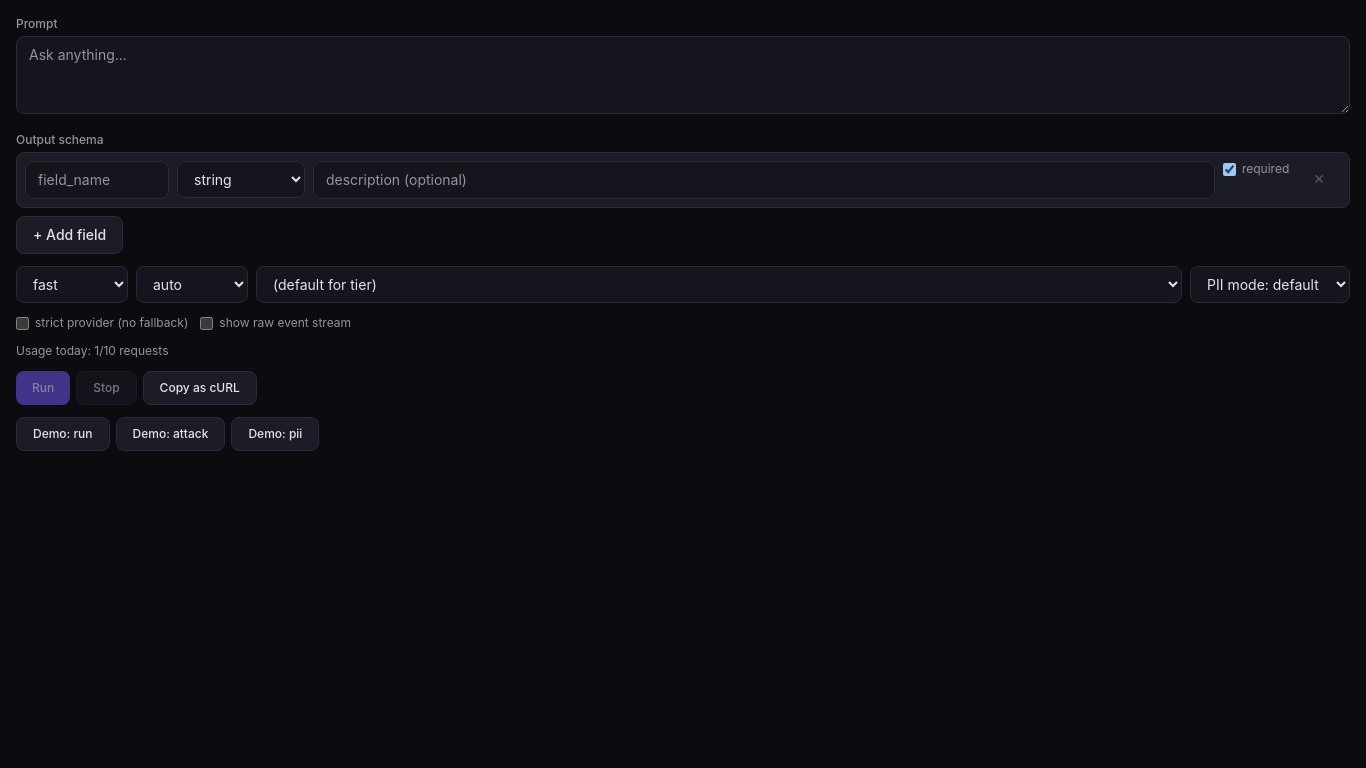
Test: LiveRunPanel error handling › maps a 401 to a session-expired message
The width and height of the screenshot is (1366, 768).
Type "hi" into the text box with placeholder "Ask anything..." at (683, 75), box [16,36,1350,114]
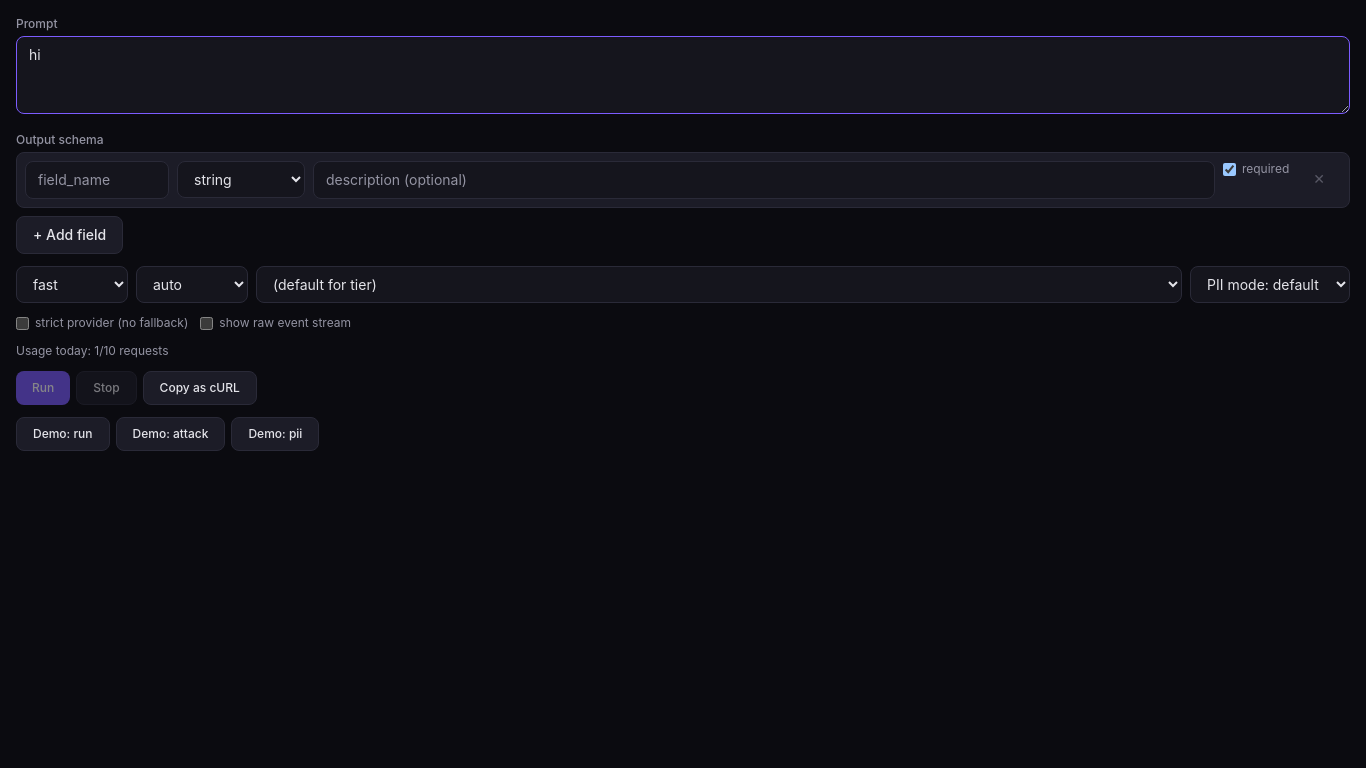
Type "answer" into the field with placeholder "field_name" at (97, 180), box [25,161,169,199]
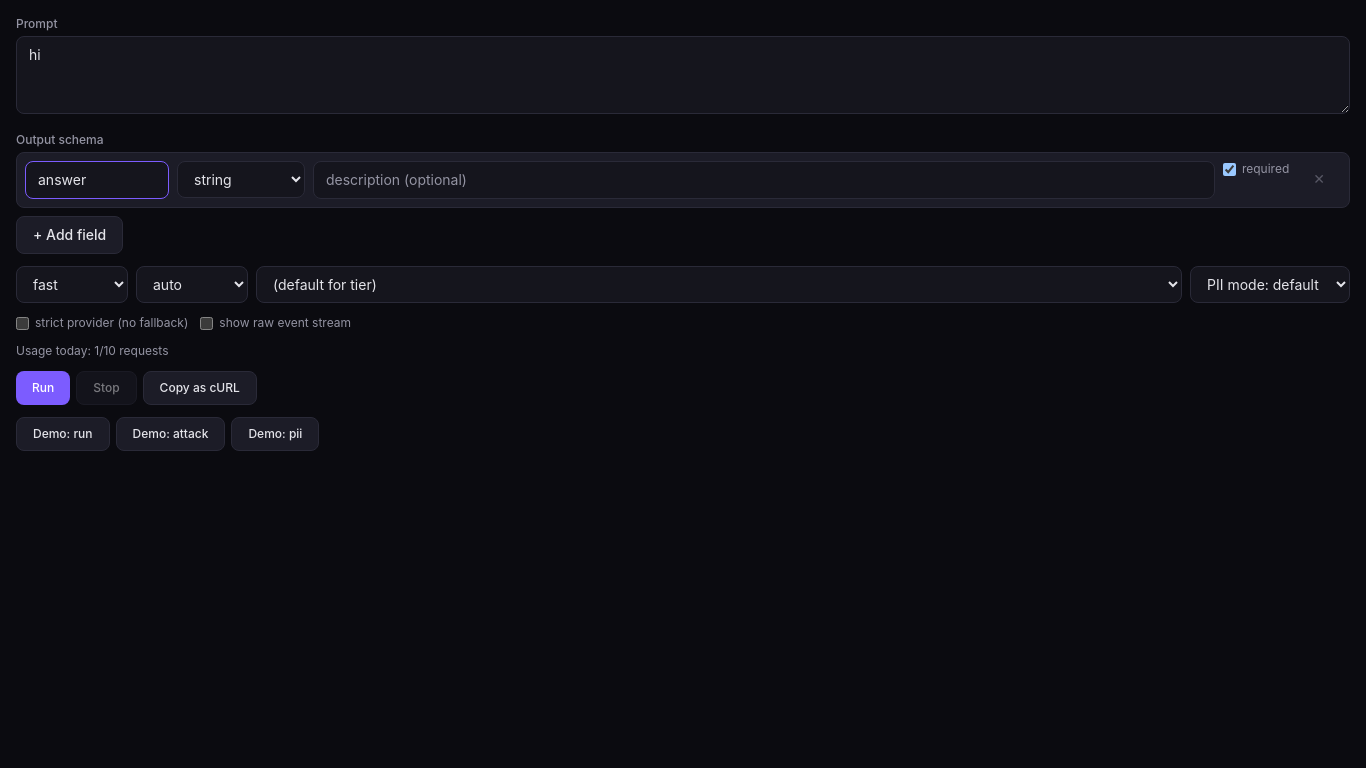
Expected: the button "Run" is enabled
Click the button "Run" at (43, 388), box [16,371,70,405]
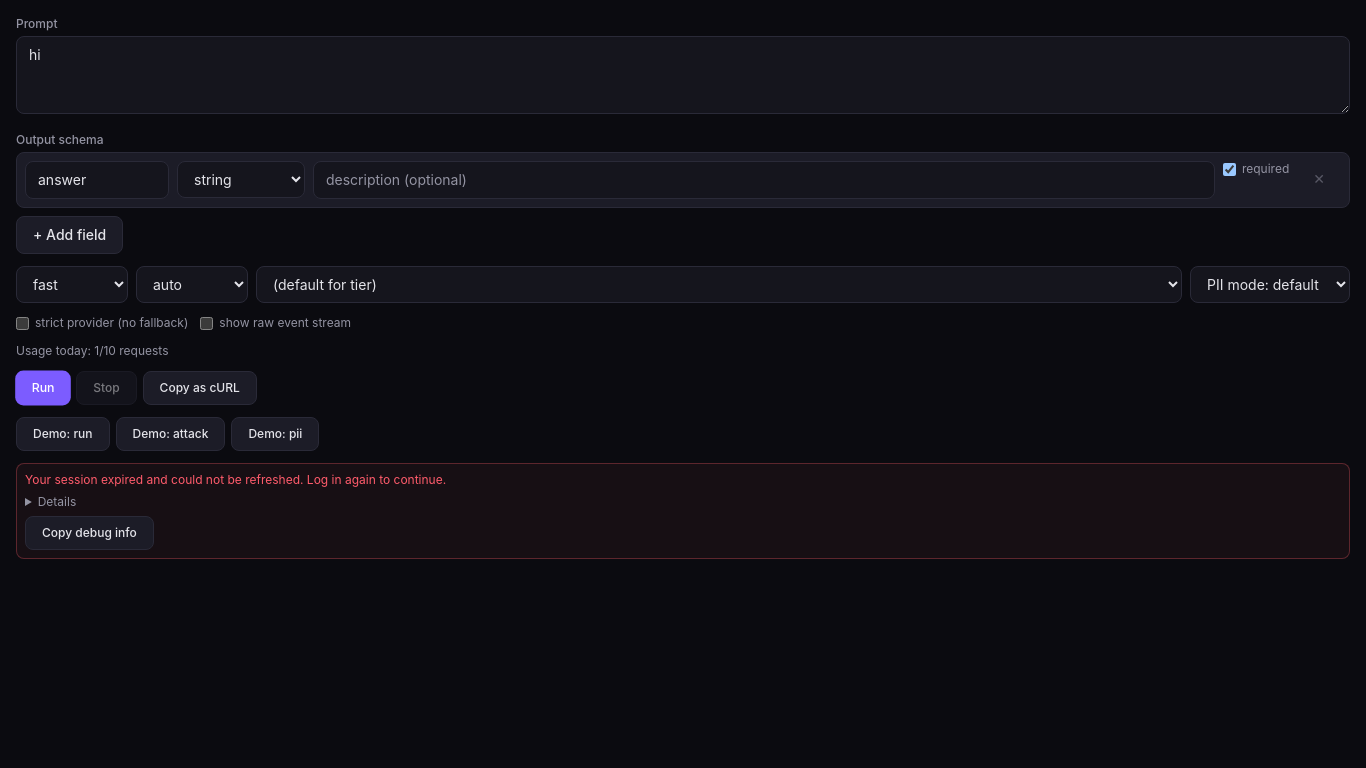
Expected: the text "session expired" is shown, [25,472,446,487]
